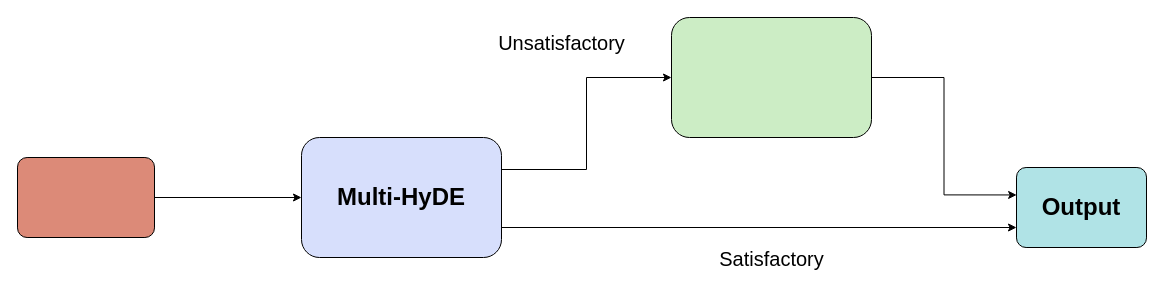
Image size: 1164x299. Some labels were removed from this diagram. Each missing label, with the box of its shape:
AMSN: (670, 16, 872, 138)
Query: (16, 156, 154, 238)
